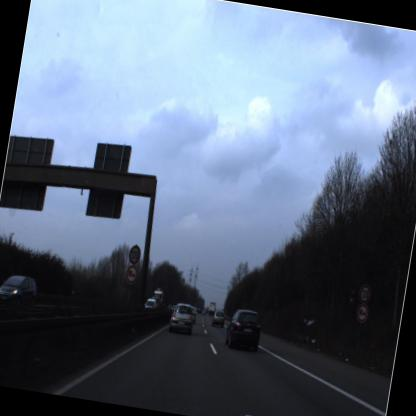prohibitory: (120, 263, 140, 287), (352, 305, 370, 328), (125, 240, 142, 264), (355, 282, 373, 304)
